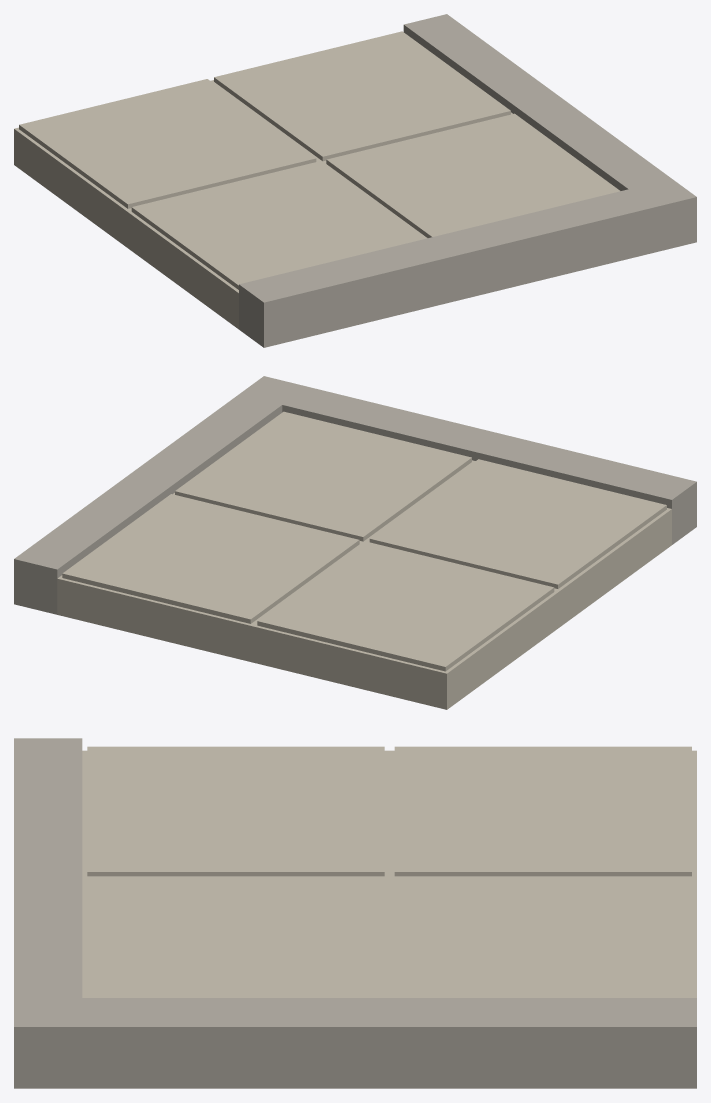
Rendered from pavement_corner.glb.
3 views of the same model, one above another, from view 1: azimuth 30°, elevation 25°; view 2: azimuth 150°, elevation 25°; view 3: azimuth 270°, elevation 25° (orthographic). The views are drawn at different scales.
Parts seen in each view (by area): view 1: pavement_corner; view 2: pavement_corner; view 3: pavement_corner.
Part boxes in pixels (x1,y1,x2,y2): pavement_corner: (14,14,696,347); pavement_corner: (14,376,696,709); pavement_corner: (14,738,696,1088).
Bounding box in the file's own units: 2 × 0.2 × 2.
